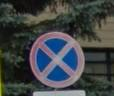No Parking: (30, 33, 86, 89)
